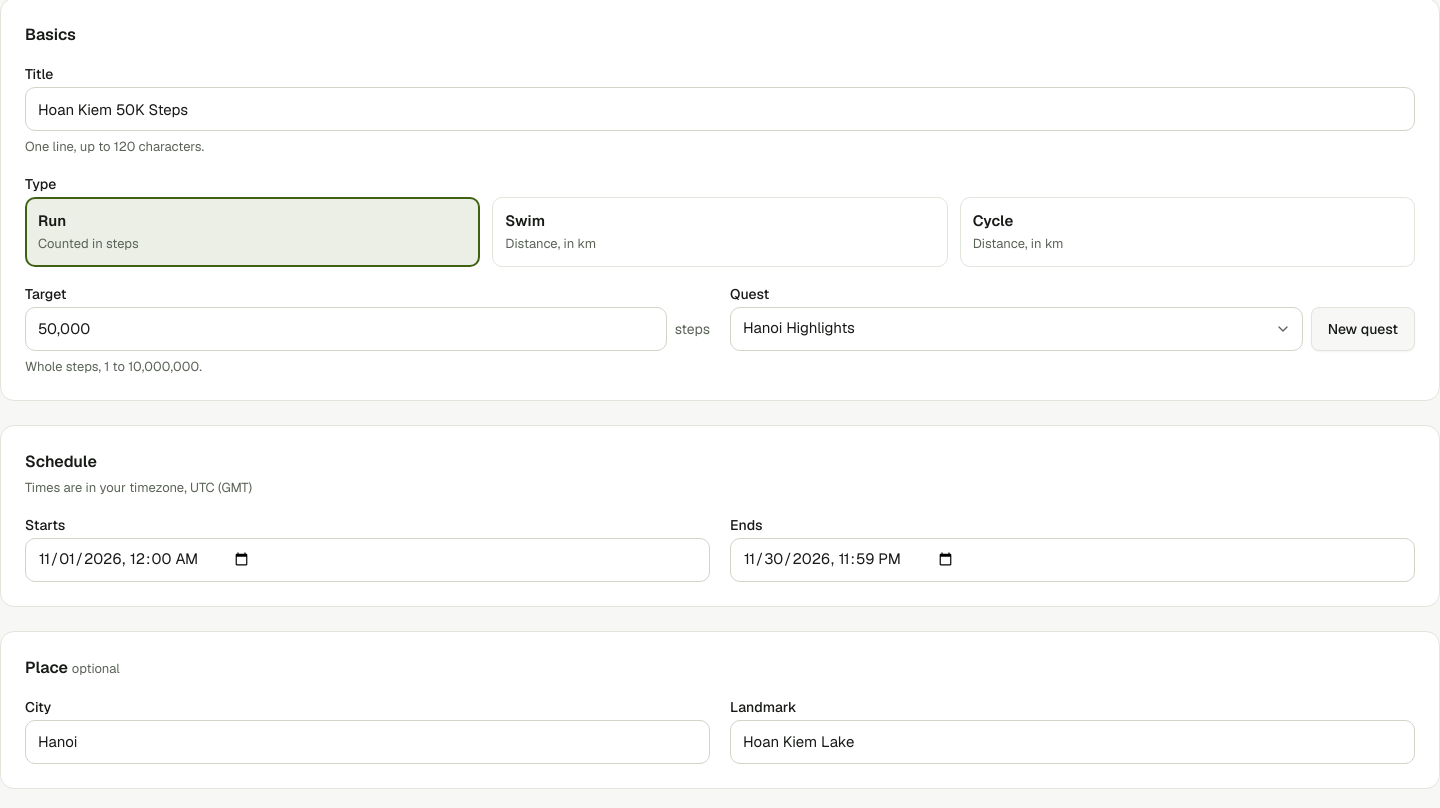
ChallengeForm, editing › saving › puts the backend's field errors on the form fields, with the rest in the message
The width and height of the screenshot is (1440, 808).
Step 1. Type "!" into the field labelled "Title" → (720,109), box [25,87,1415,131]
(page scrolled)
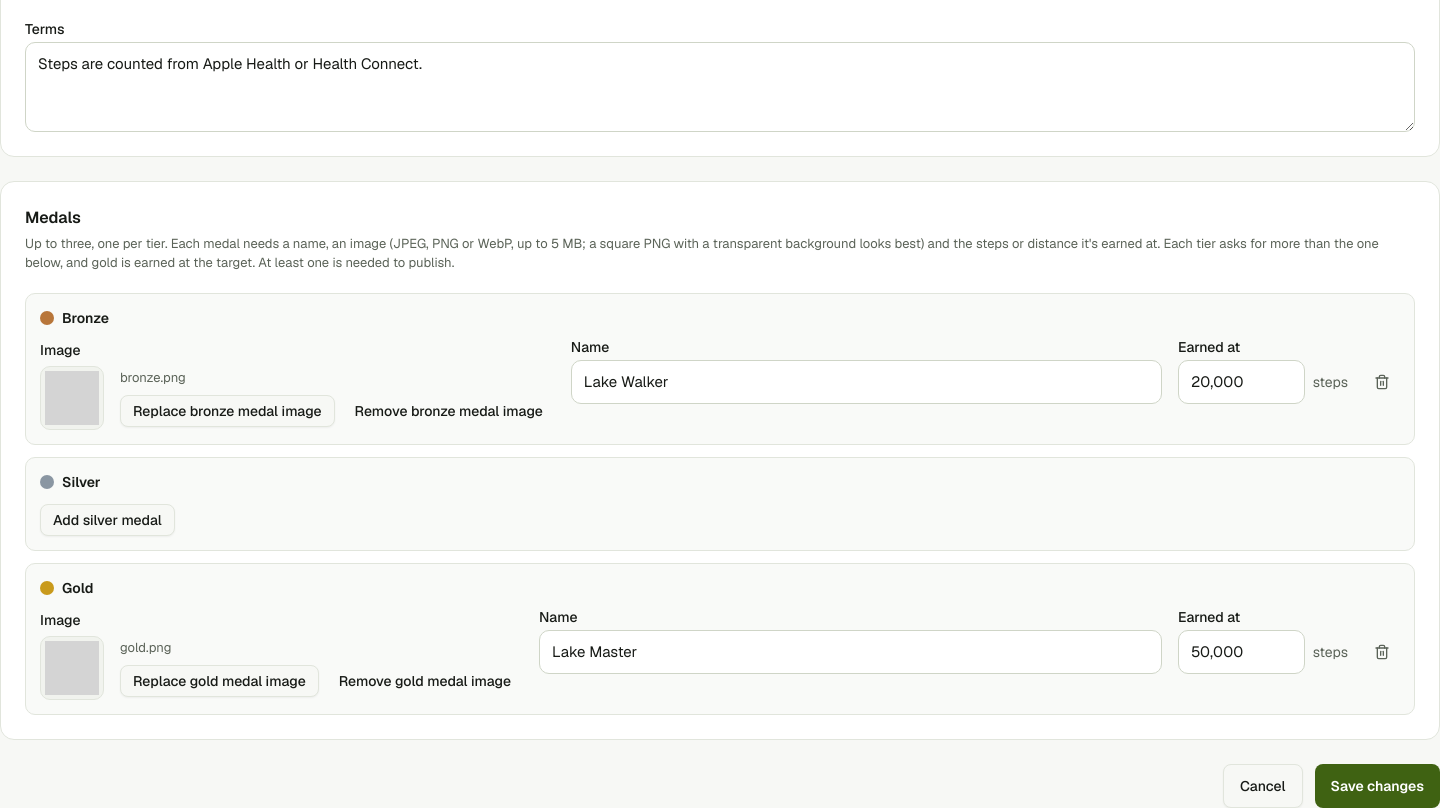
Step 2. Click the button "Save changes" → (1377,786), box [1314,764,1439,807]
(page scrolled)
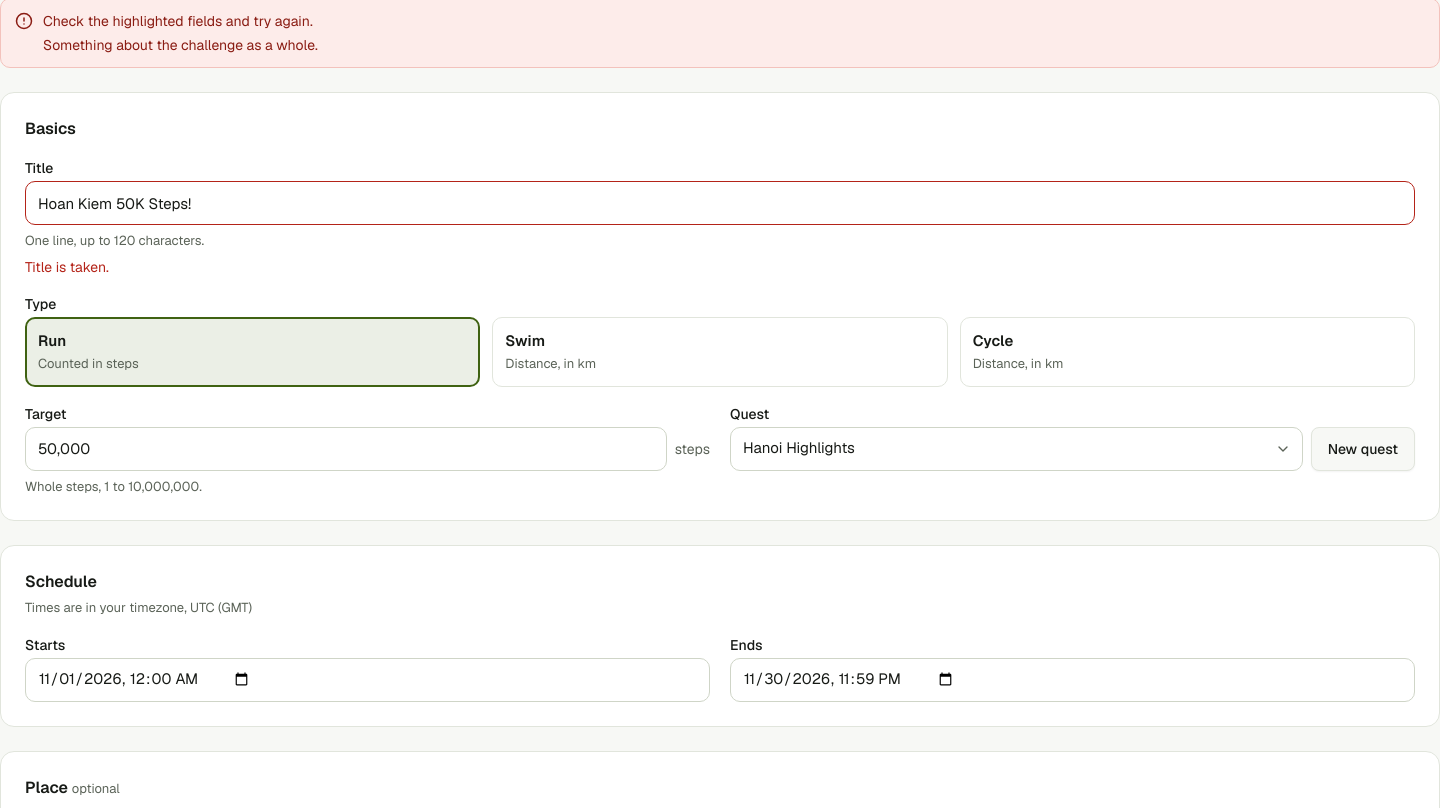
Check: the text "Title is taken." is shown, box [25,258,109,276]
Check: the message shows "Something about the challenge", box [43,36,318,54]
